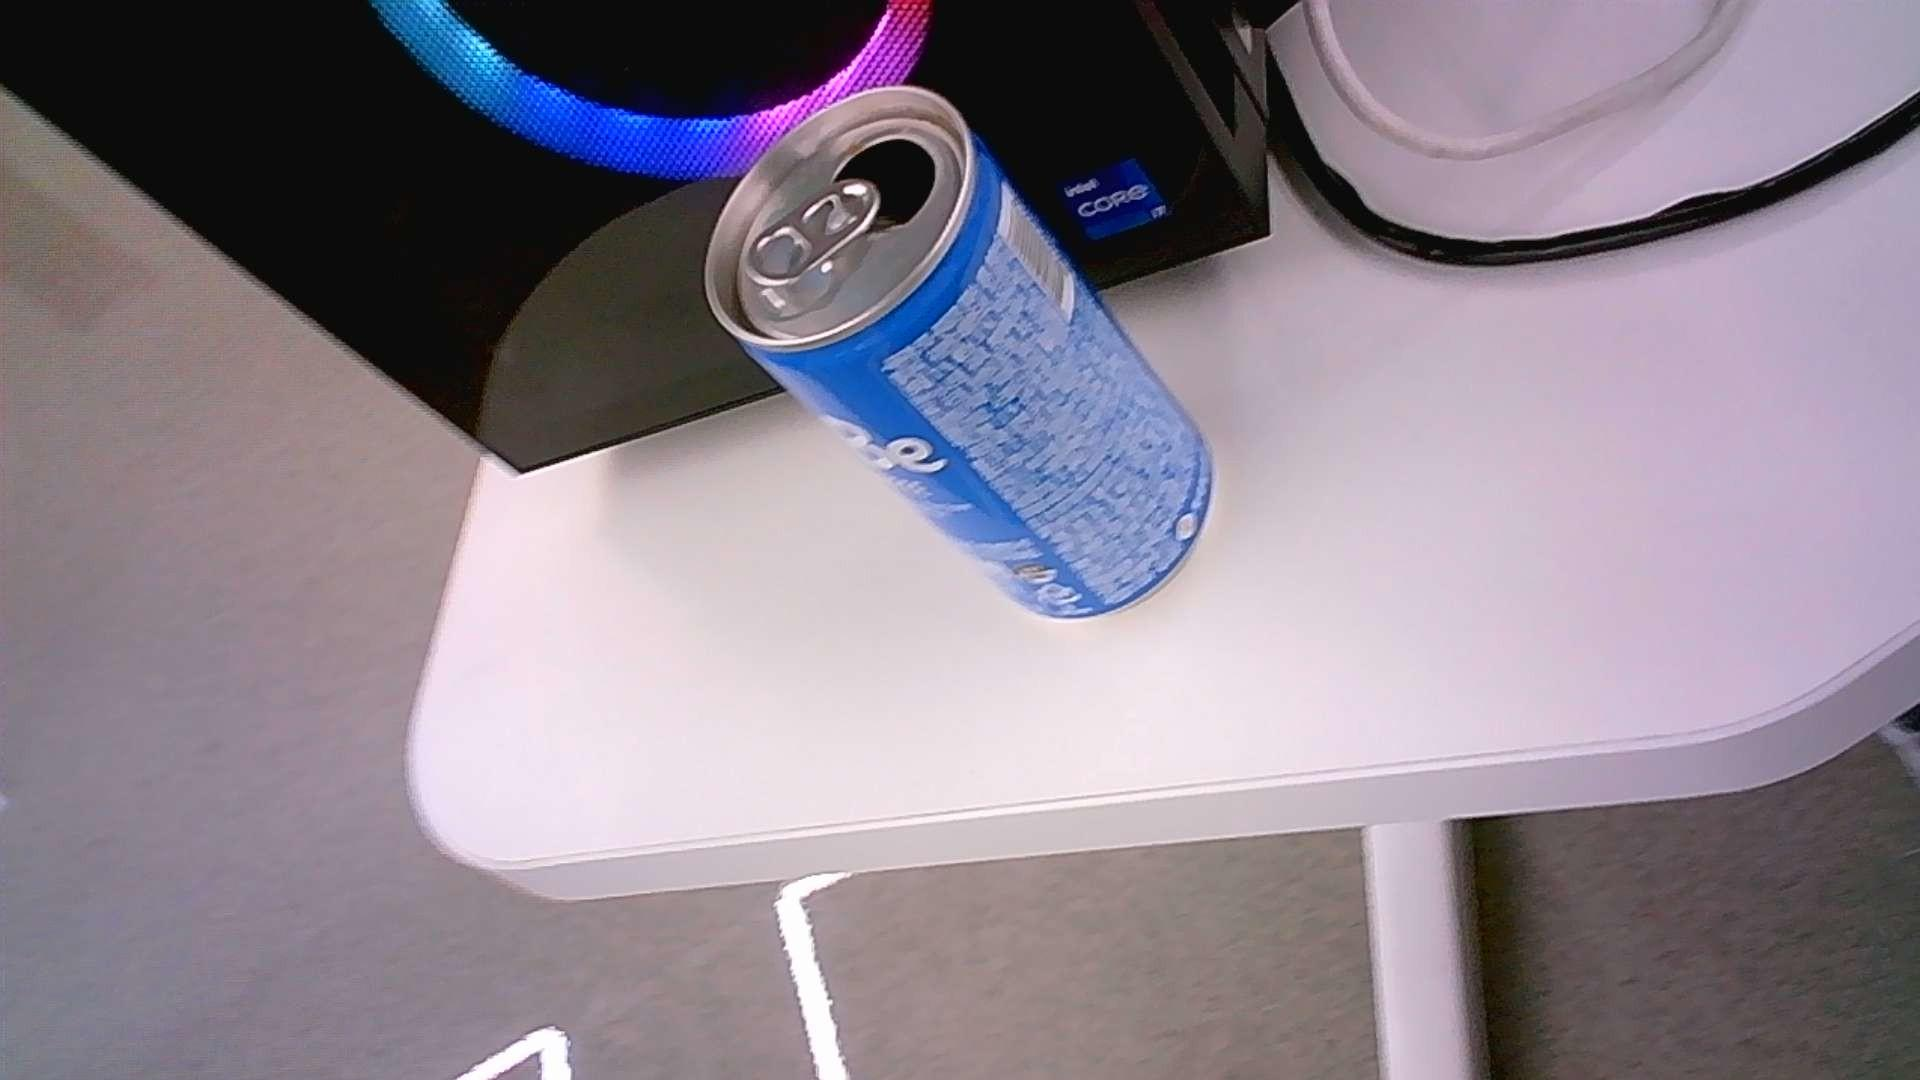letsbe: (707, 86, 1217, 621)
